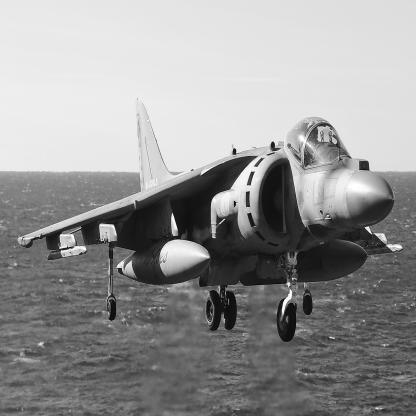AV8B: (19, 98, 405, 343)
